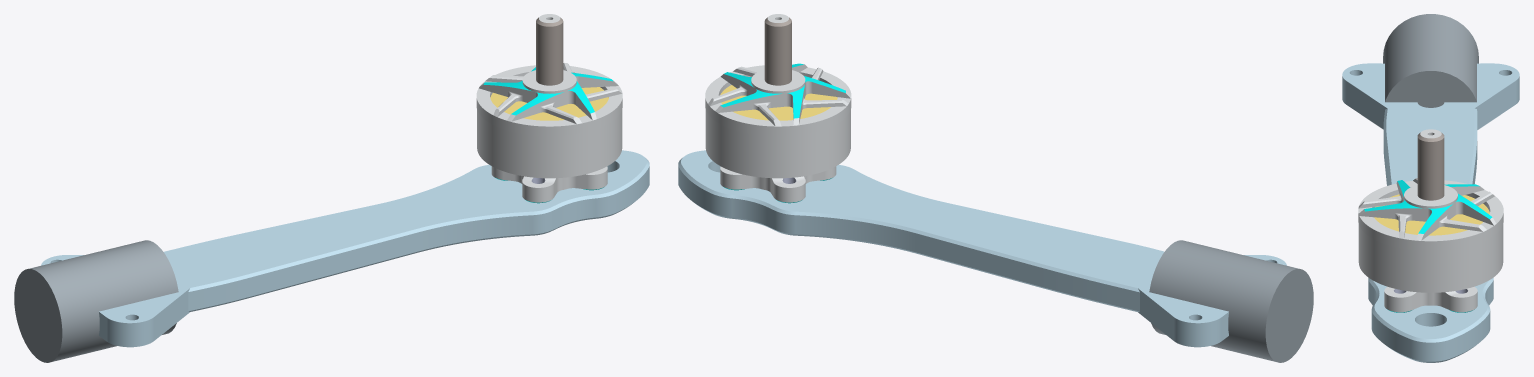
File: motor_arm_new.dae
The picture shows the model from 3 angles, left to right: view 1: azimuth 30°, elevation 25°; view 2: azimuth 150°, elevation 25°; view 3: azimuth 270°, elevation 25°; orthographic projection.
Parts seen in each view (by area): view 1: arm, motor, Servo_horn; view 2: arm, motor, Servo_horn; view 3: motor, arm, Servo_horn.
Boxes of the visible parts, x1,y1,x2,y2 form: arm: (41, 150, 649, 347); motor: (476, 14, 622, 203); Servo_horn: (14, 240, 178, 362); arm: (678, 150, 1286, 347); motor: (705, 14, 851, 203); Servo_horn: (1149, 240, 1313, 362); motor: (1358, 129, 1503, 312); arm: (1342, 63, 1519, 362); Servo_horn: (1383, 14, 1478, 107).
Size of the model in its own units: 0.1295 by 0.0329 by 0.044.
